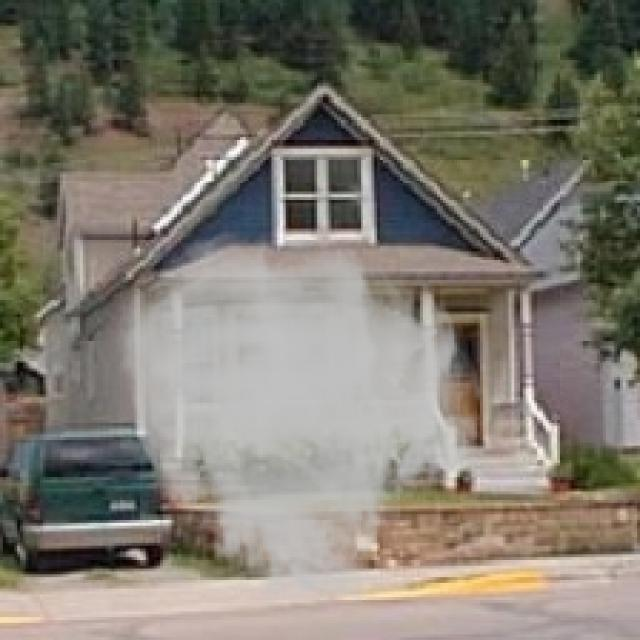Smoke: (114, 228, 486, 620)
